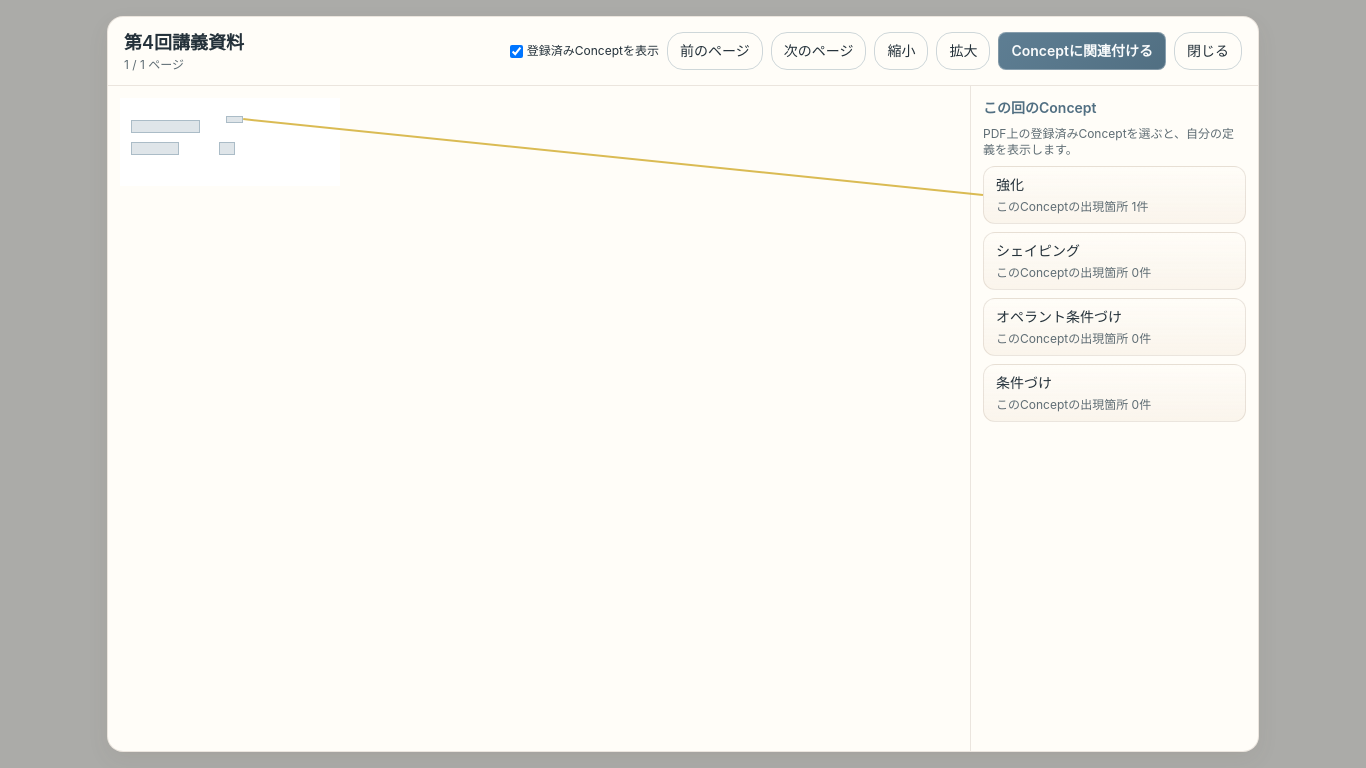
Test case: LearningMaterialPdfViewer auto concept highlights › toggle OFFで自動highlightだけ消え、手動Anchorは残る
Check: the button named "出現箇所: 強化" is shown, box x1=226 y1=116 x2=243 y2=123
Click the checkbox labelled "登録済みConceptを表示".
click(516, 51)  # box x1=510 y1=44 x2=523 y2=58
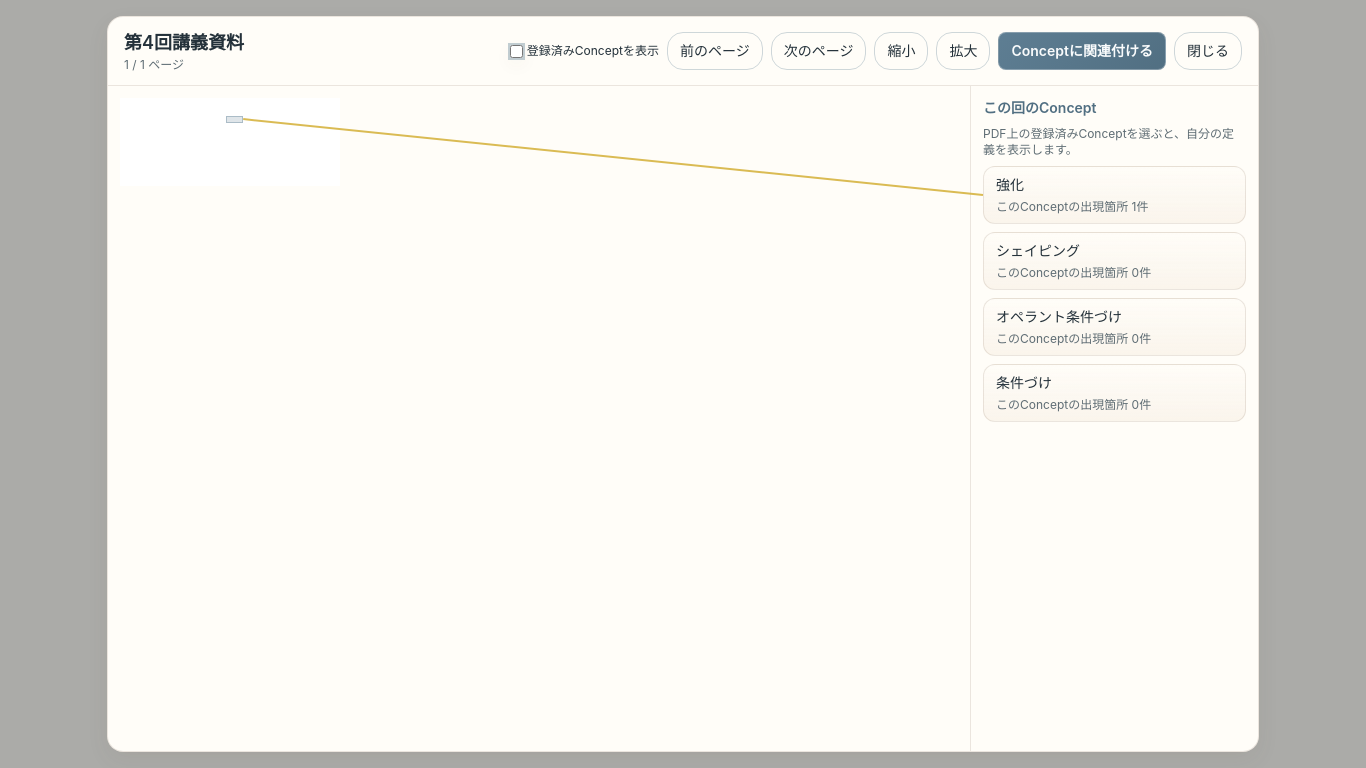
Check: the button named "出現箇所: 強化" is shown, box x1=226 y1=116 x2=243 y2=123
Click the checkbox labelled "登録済みConceptを表示".
click(516, 51)  # box x1=510 y1=44 x2=523 y2=58
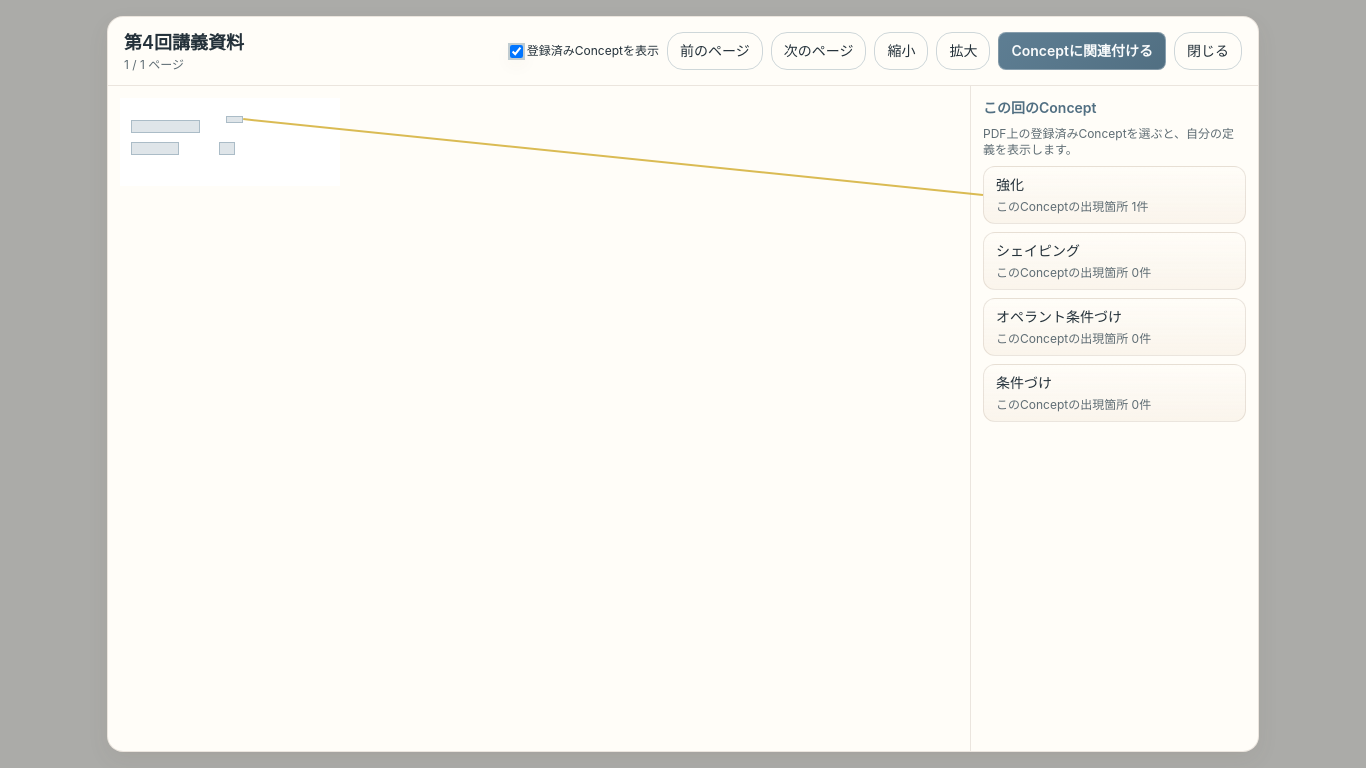
Check: the button named "登録済みConcept" is shown, box x1=131 y1=120 x2=200 y2=133
